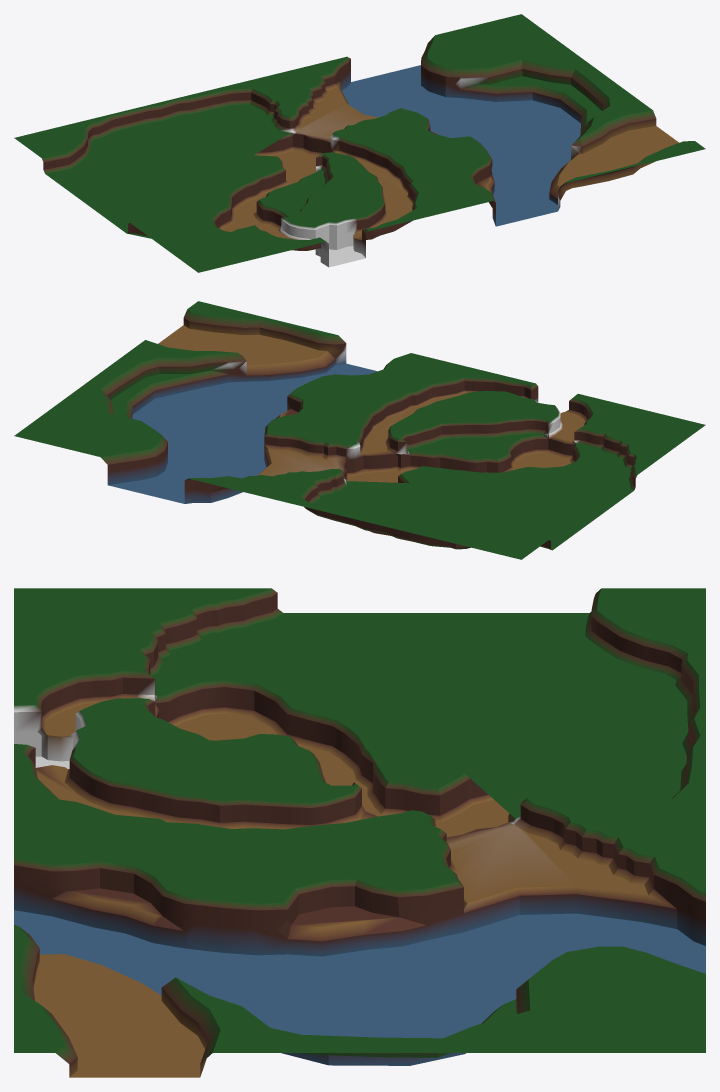
Rendered from map terrain.fbx.
3 renders of one model, top to bottom at view 1: azimuth 30°, elevation 25°; view 2: azimuth 150°, elevation 25°; view 3: azimuth 270°, elevation 25°, orthographic. The views are drawn at different scales.
Visible parts, largest first — view 1: Plane.001; view 2: Plane.001; view 3: Plane.001.
Part boxes in pixels (box(x1,y1,x2,y2)): Plane.001: box(14, 14, 705, 272); Plane.001: box(14, 301, 705, 559); Plane.001: box(14, 588, 705, 1077).
Size of the model in its own units: 20.12 by 1.08 by 12.66.
